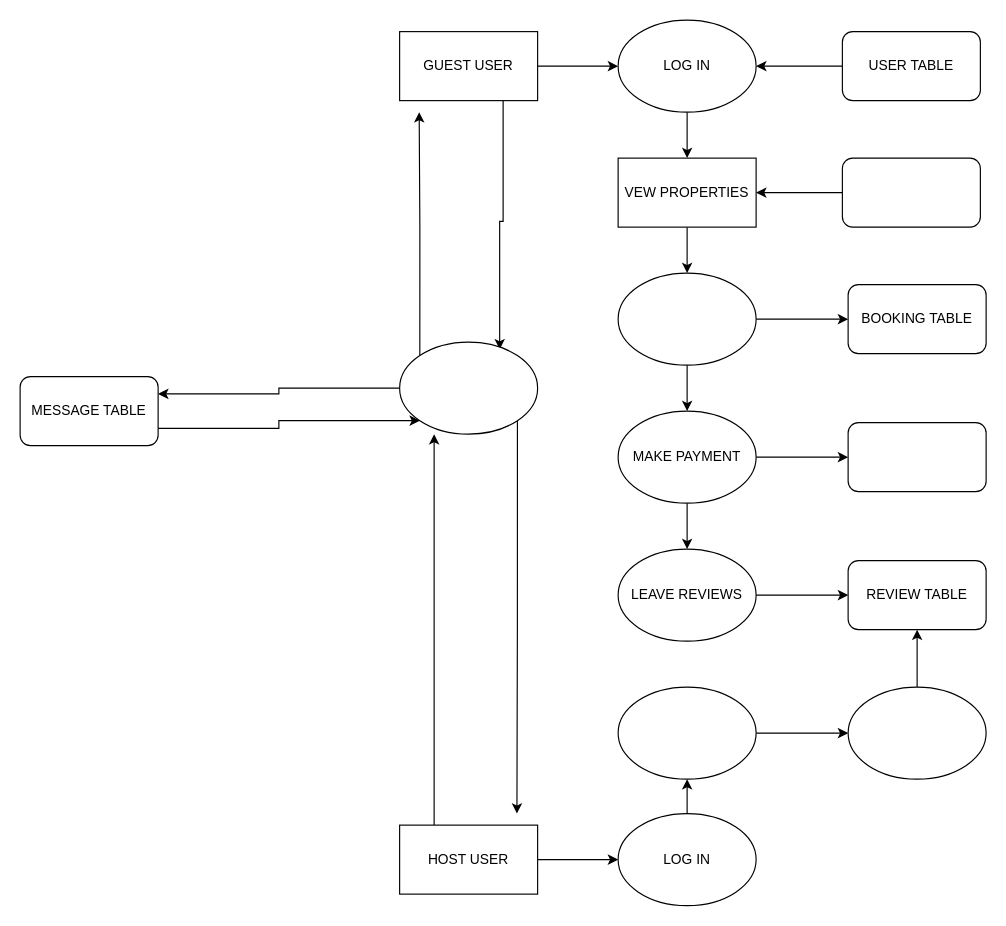
Some shapes in this 1006 by 926 pixel diagram are drawn without their labels. The shapes that lost their labels are listed below. From the top down, each one's centre as x and y in pixels, then its label:
At point (910, 192): "PROPERTY TABLE".
At point (686, 318): "MAKE BOOKING".
At point (468, 387): "MESSAGE".
At point (916, 456): "PAYMENT TABLE".
At point (686, 732): "UPLOAD PROPERTY".
At point (916, 732): "COMMENT ON REVIEW".
